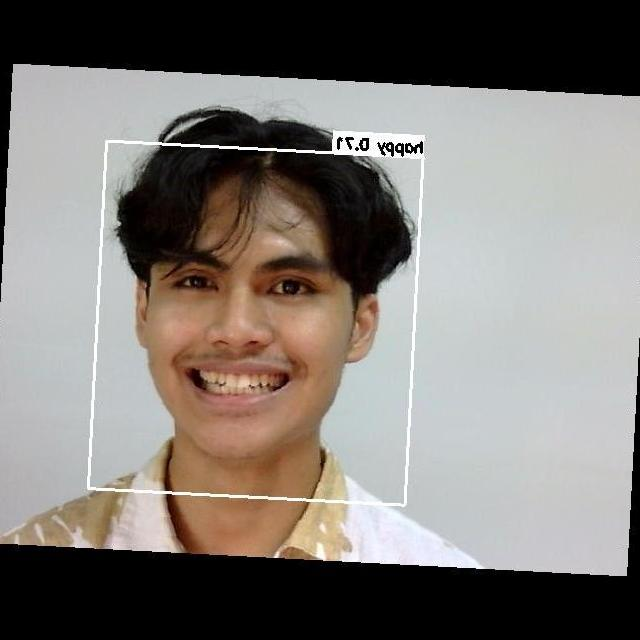Happy: (131, 208, 357, 449)
